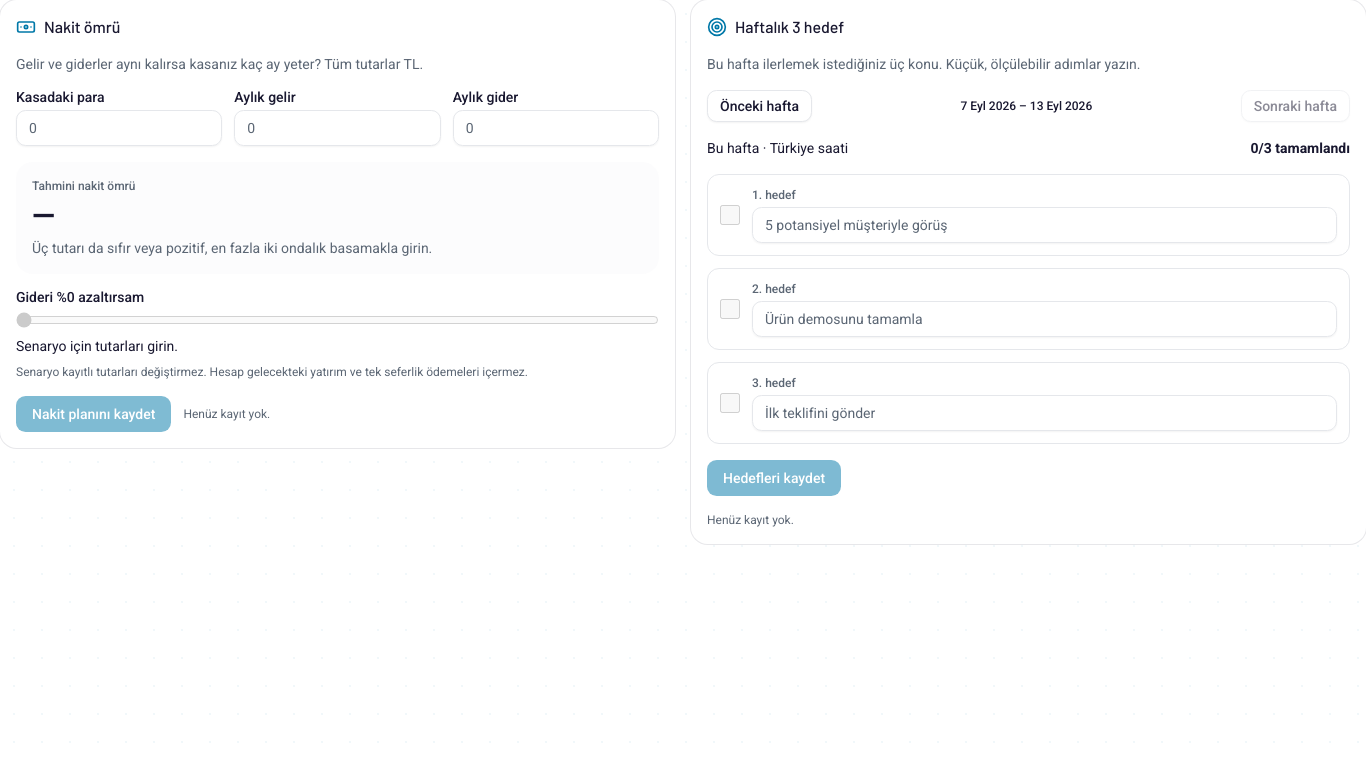
Test case: Girişimci araçları › kayıt hatasında girilen değerleri korur
Type "Demo hazırla" into the field labelled "1. hedef".
click(1044, 225); type("Demo hazırla")  # box left=752, top=207, right=1337, bottom=243
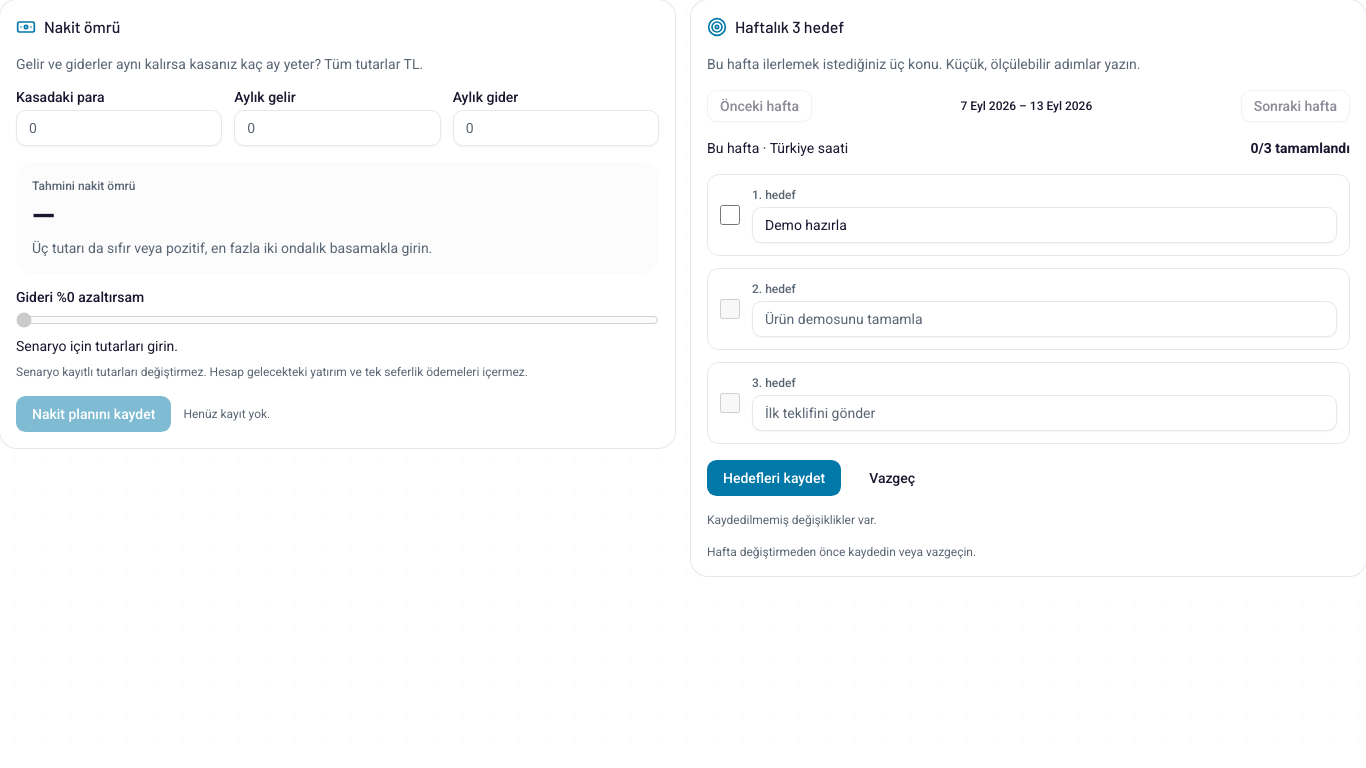
Click the button "Hedefleri kaydet".
click(774, 478)  # box left=707, top=460, right=841, bottom=496
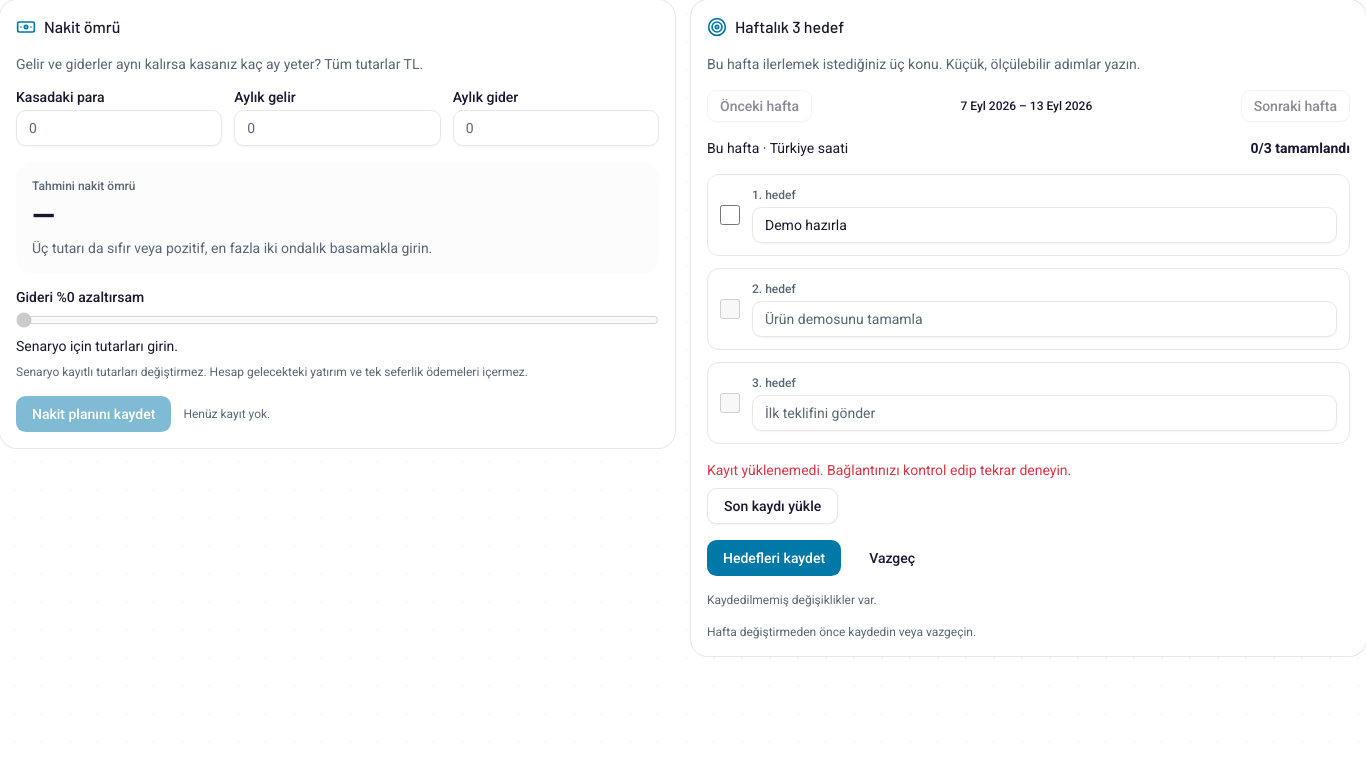
Expected: the button "Hedefleri kaydet" is enabled, left=707, top=540, right=841, bottom=576
Expected: the message "Kayıt yüklenemedi. Bağlantınızı kontrol edip tekrar deneyin. Son kaydı yükle" is shown, left=707, top=462, right=1071, bottom=524
